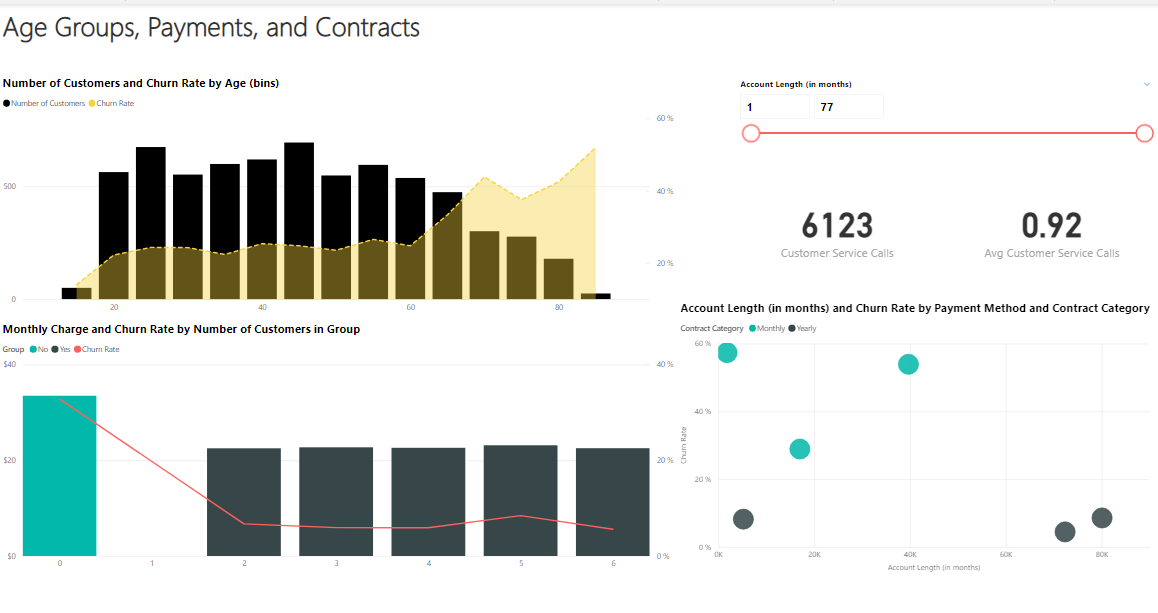

The page's visual inventory and layout, read from the dashboard file:
{"tool":"powerbi","page":{"name":"Age Group","canvas":[1640,960],"ordinal":1},"visuals":[{"type":"lineStackedColumnComboChart","fields":{"Category":["Databel - Data.Age (bins)"],"Y":["Databel - Data.Number of costumers"],"Y2":["Databel - Data.Churn Rate"]},"box":[0,100.2,958.3,346.3],"z":0},{"type":"lineStackedColumnComboChart","title":"Monthly Charge and Churn Rate by Number of Customers in Group","fields":{"Category":["Databel - Data.Number of Customers in Group"],"Y":["Avg(Databel - Data.Monthly Charge)"],"Series":["Databel - Data.Group"],"Y2":["Databel - Data.Churn Rate"]},"box":[0,446.5,958.3,361.5],"z":1000},{"type":"slicer","fields":{"Values":["Databel - Data.Account Length (in months)"]},"box":[1034.5,100.2,605.5,113.3],"z":2000},{"type":"card","fields":{"Values":["Sum(Databel - Data.Customer Service Calls)"]},"box":[1034.5,213.4,300,204.7],"z":3000},{"type":"card","fields":{"Values":["Databel - Data.Avg Customer Service Calls"]},"box":[1337.3,213.4,300,204.7],"z":4000},{"type":"scatterChart","fields":{"X":["Sum(Databel - Data.Account Length (in months))"],"Y":["Databel - Data.Churn Rate"],"Series":["Databel - Data.Contract Category"],"Category":["Databel - Data.Payment Method"]},"box":[958.3,418.2,681.7,389.9],"z":5000},{"type":"textbox","box":[0,0,958.3,74.1],"z":6000}]}

Visuals, with their boxes on the page's 1640x960 design canvas (x1, y1, x2, y2). These are canvas units, not pixel positions in the 1158x613 screenshot, which may show the page scaled, cropped or inside an application window:
lineStackedColumnComboChart - Databel - Data.Age (bins) x Databel - Data.Number of costumers: <bbox>0, 100, 958, 446</bbox>
"Monthly Charge and Churn Rate by Number of Customers in Group" lineStackedColumnComboChart: <bbox>0, 446, 958, 808</bbox>
slicer - Databel - Data.Account Length (in months): <bbox>1034, 100, 1640, 214</bbox>
card - Sum(Databel - Data.Customer Service Calls): <bbox>1034, 213, 1334, 418</bbox>
card - Databel - Data.Avg Customer Service Calls: <bbox>1337, 213, 1637, 418</bbox>
scatterChart - Sum(Databel - Data.Account Length (in months)) x Databel - Data.Churn Rate: <bbox>958, 418, 1640, 808</bbox>
textbox: <bbox>0, 0, 958, 74</bbox>
